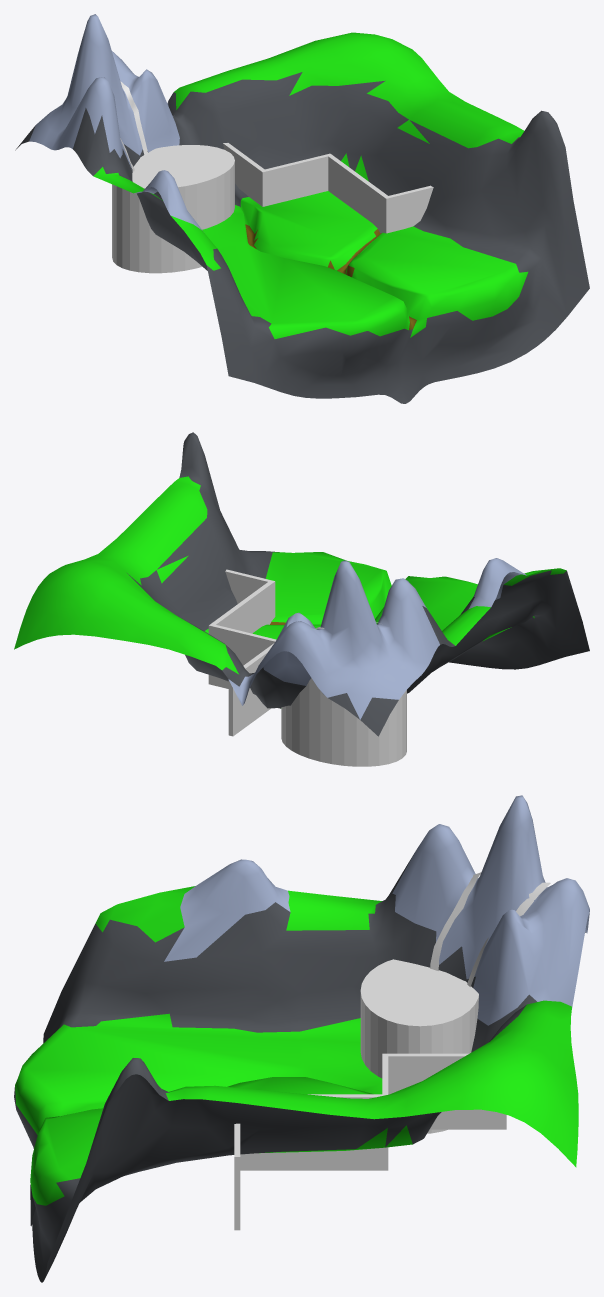
Rendered from AdjustedGameMap.glb.
3 renders of one model, top to bottom at view 1: azimuth 30°, elevation 25°; view 2: azimuth 150°, elevation 25°; view 3: azimuth 270°, elevation 25°, orthographic. The views are drawn at different scales.
Visible parts, largest first — view 1: map, Cylinder, Cube; view 2: map, Cylinder, Cube; view 3: map, Cylinder, Cube, river.
Part boxes in pixels (x1,y1,x2,y2): map: [15, 14, 589, 403]; Cylinder: [112, 145, 234, 273]; Cube: [223, 143, 433, 233]; map: [14, 432, 589, 736]; Cylinder: [281, 678, 406, 766]; Cube: [208, 569, 276, 736]; map: [14, 795, 589, 1282]; Cylinder: [360, 959, 478, 1133]; Cube: [234, 1053, 506, 1230]; river: [430, 872, 550, 986].
Size of the model in its own units: 14.15 by 10.13 by 14.95.
